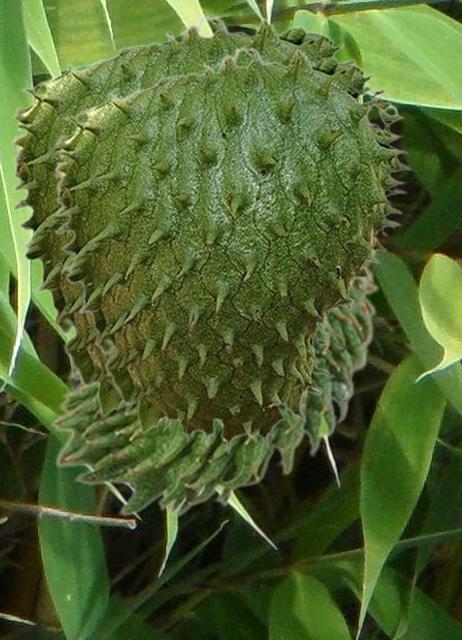guyabano: (11, 14, 380, 438), (54, 45, 412, 454), (49, 252, 379, 516)
